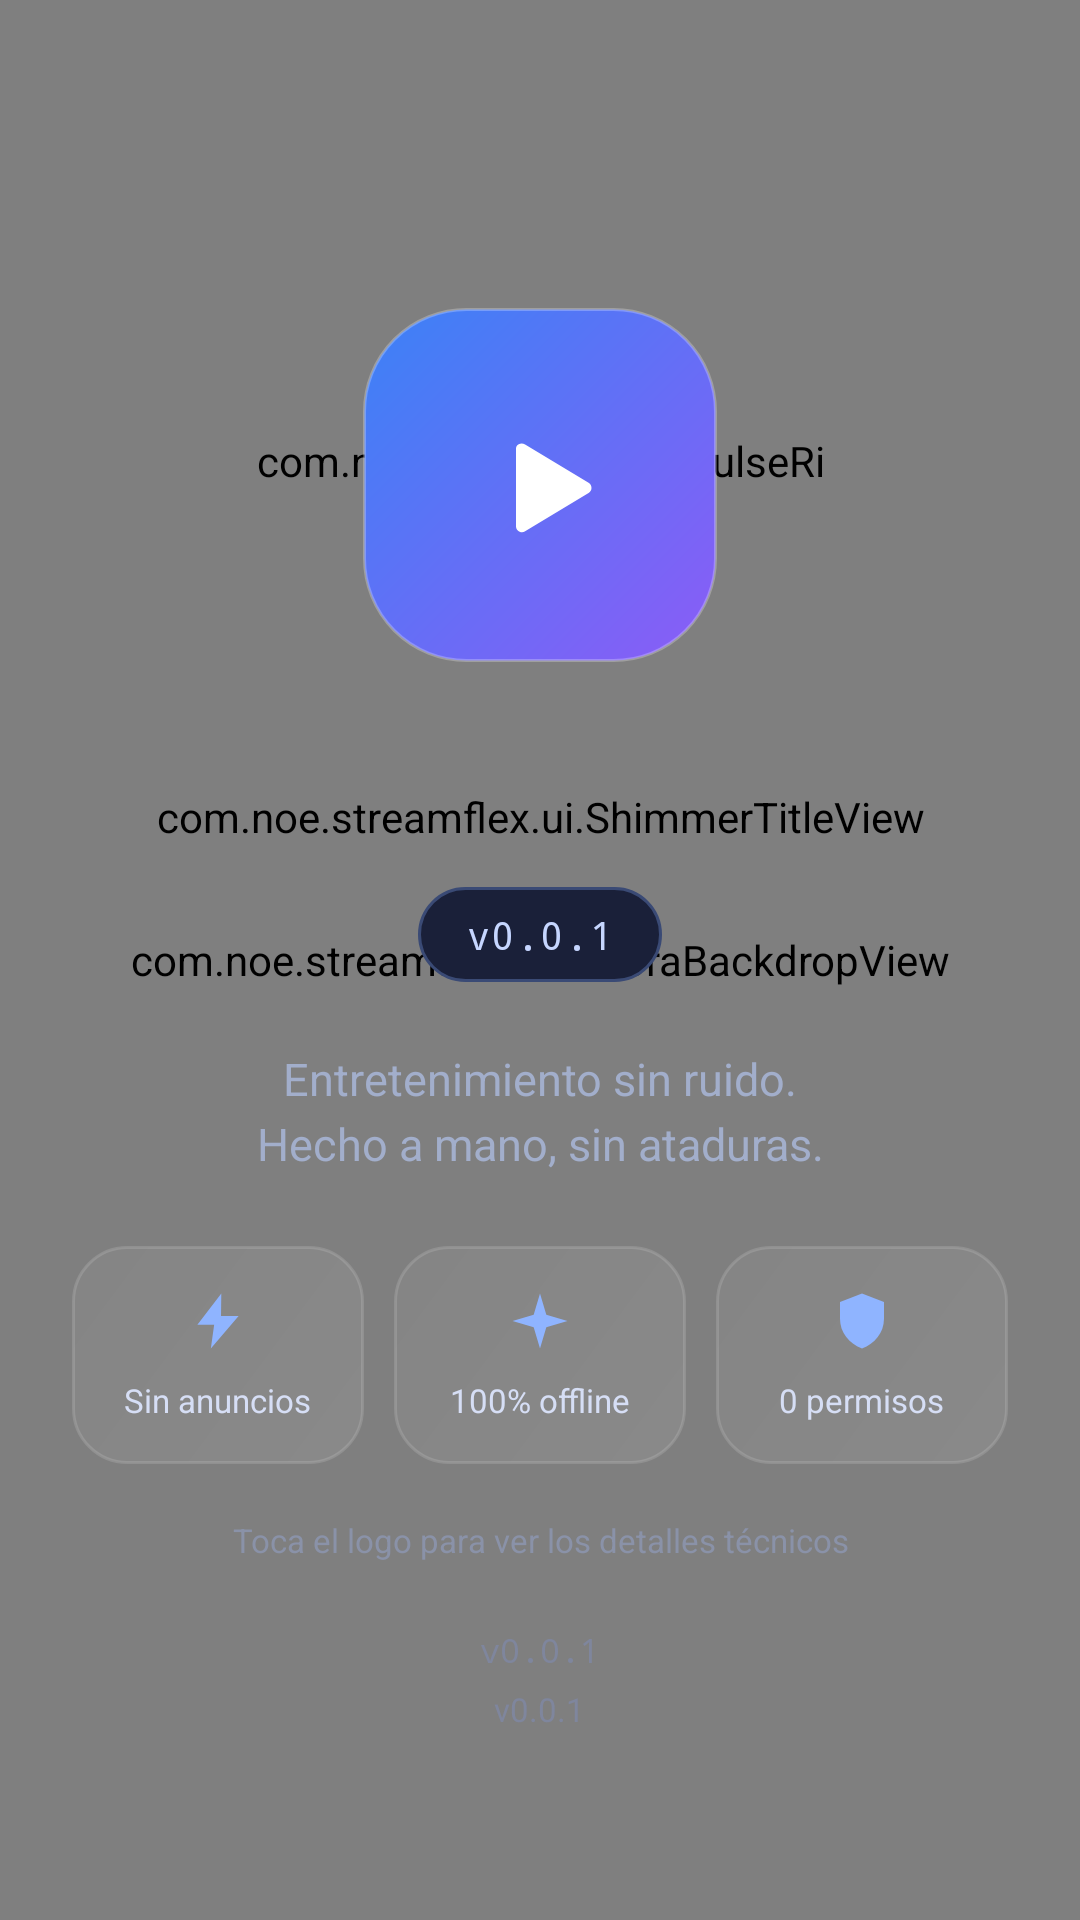

Where icons sit on this 1080px x 1920px app screen, as (x1, y1, x2, y2):
play triangle: (516, 443, 592, 533)
